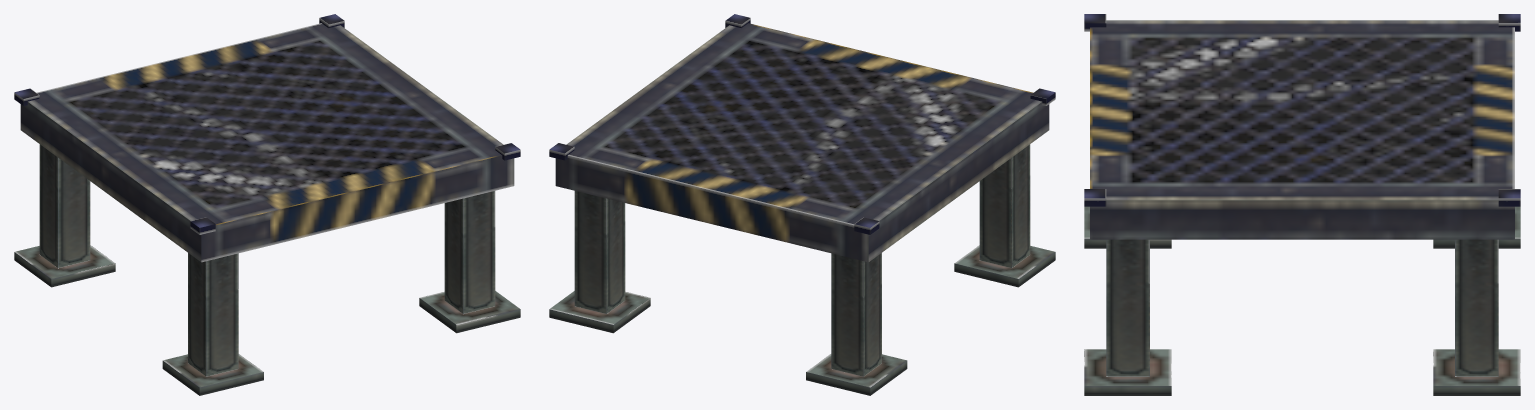
The model's file is MO_PLATAFORMAMETAL_01.fbx.
The picture shows the model from 3 angles, left to right: view 1: azimuth 30°, elevation 25°; view 2: azimuth 150°, elevation 25°; view 3: azimuth 270°, elevation 25°; orthographic projection. The views are drawn at different scales.
Visible parts, largest first — view 1: MO_PLATAFORMAMETAL_01; view 2: MO_PLATAFORMAMETAL_01; view 3: MO_PLATAFORMAMETAL_01.
Part boxes in pixels (left/top/right/bottom): MO_PLATAFORMAMETAL_01: left=14, top=14, right=520, bottom=395; MO_PLATAFORMAMETAL_01: left=549, top=14, right=1055, bottom=395; MO_PLATAFORMAMETAL_01: left=1084, top=14, right=1520, bottom=395.
Bounding box in the file's own units: 2 × 1 × 2.
